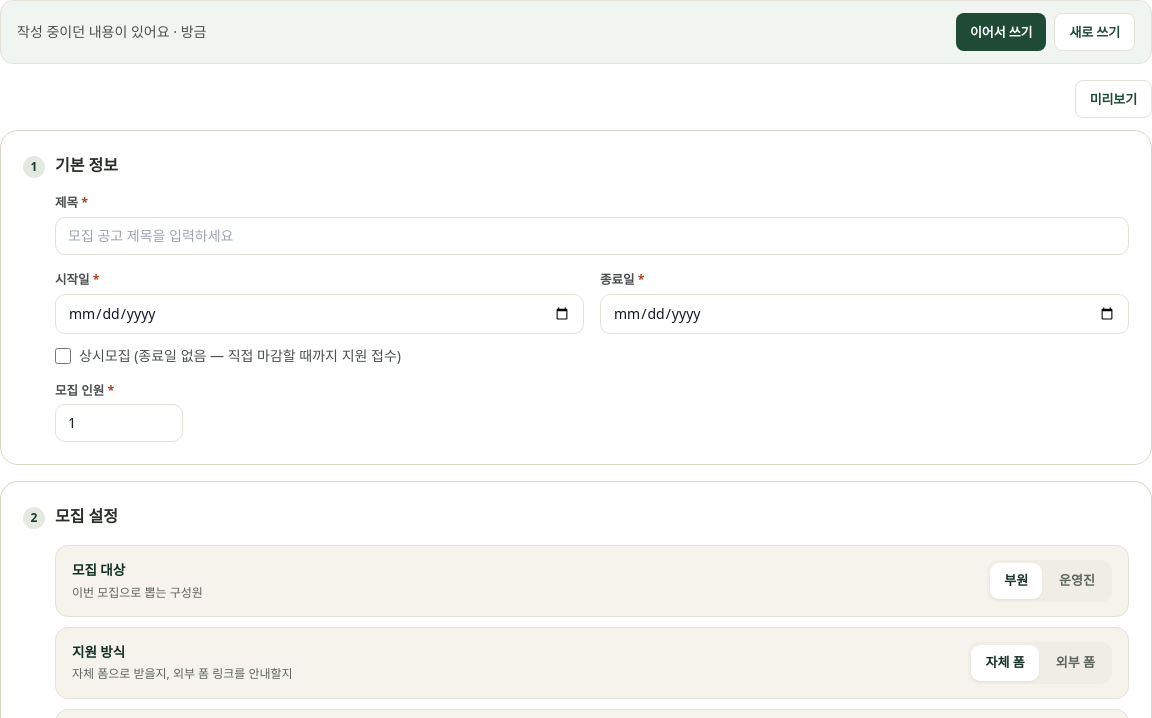
RecruitmentForm 오류 표시 › 배너를 무시하고 입력하면 배너가 사라지고 자동 저장이 다시 돌아간다
The image size is (1152, 718).
Expected: the button "이어서 쓰기" is shown, [956,13,1046,51]
Type "배너 무시하고 쓴 제목" into the field with placeholder "모집 공고 제목을 입력하세요".
click(592, 236); type("배너 무시하고 쓴 제목")  # box [55,217,1129,255]
Wait 1500 ms
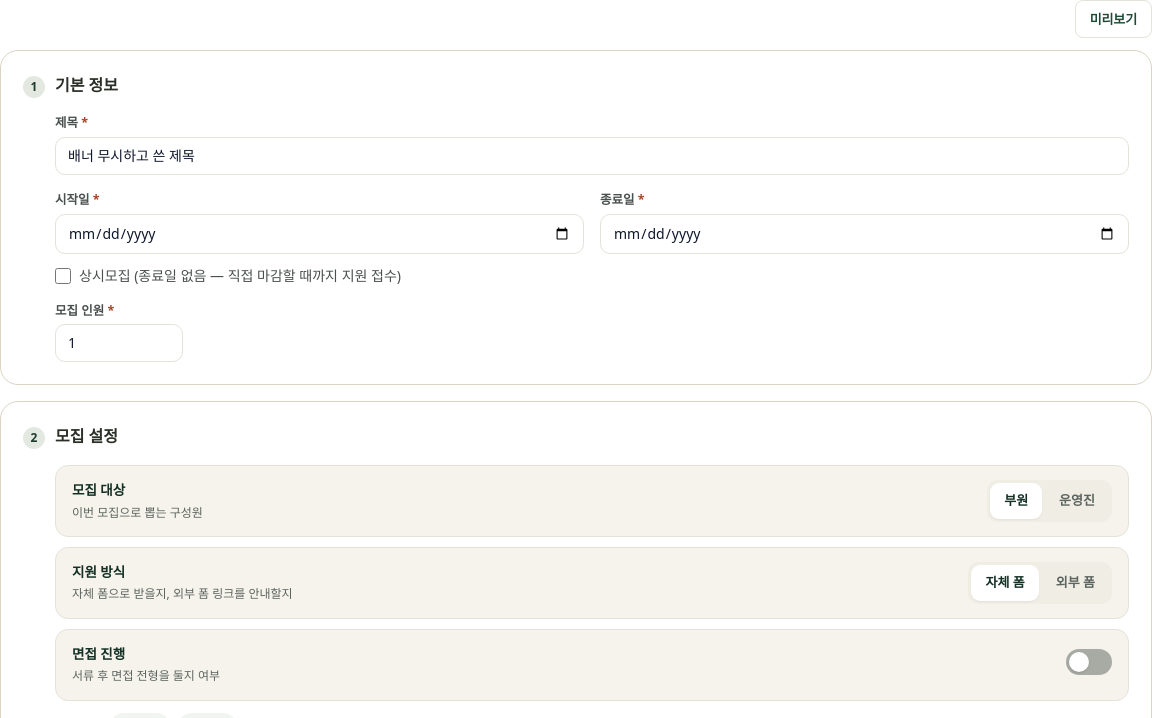
Result: the button "이어서 쓰기" is gone
